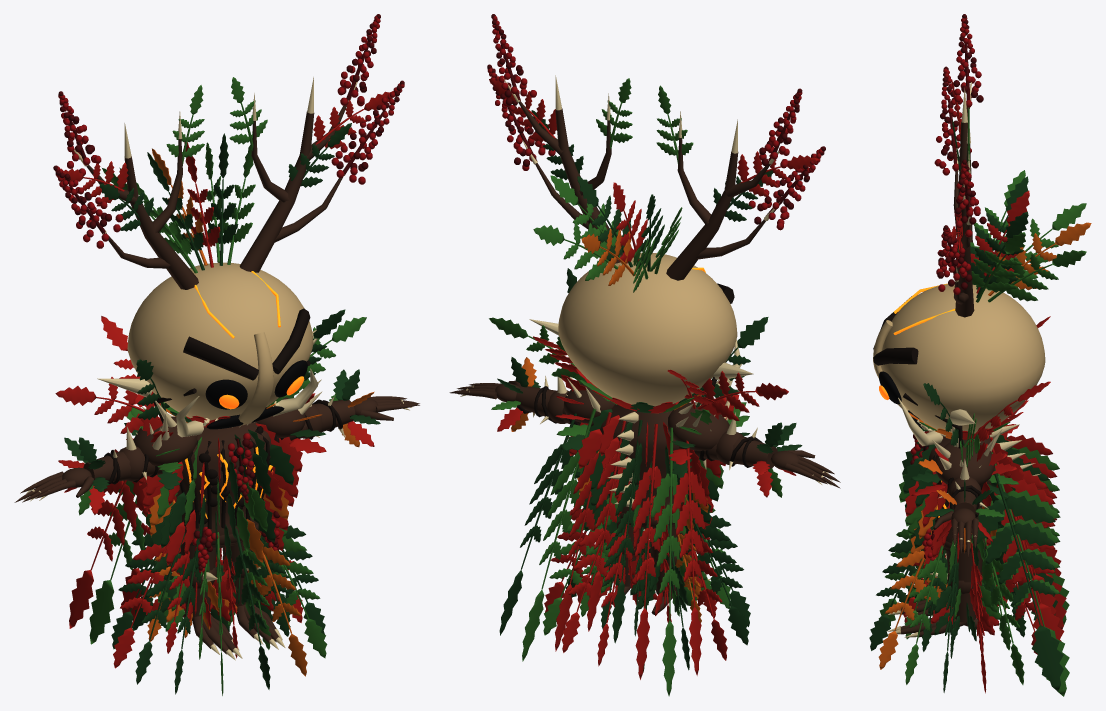
File: boss_rhaxos_v2.fbx
3 views of the same model, side by side, from view 1: azimuth 30°, elevation 25°; view 2: azimuth 150°, elevation 25°; view 3: azimuth 270°, elevation 25° (orthographic). The views are drawn at different scales.
Parts seen in each view (by area): view 1: Bark, Leaves_Deep, Leaves_Red, Mask, Leaves_Green, Fruit, BarkDark, Leaves_Orange, Thorns, FruitDark, EyeHoles, EmberCracks; view 2: Leaves_Red, Mask, Leaves_Deep, Bark, Leaves_Green, Fruit, Thorns, FruitDark, Leaves_Orange, BarkDark; view 3: Mask, Leaves_Deep, Leaves_Green, Leaves_Red, Bark, Leaves_Orange, Fruit, Thorns, FruitDark, BarkDark, EyeHoles, EmberCracks.
Part boxes in pixels (x1,y1,x2,y2): Bark: (14,103,419,654); Leaves_Deep: (64,123,380,694); Leaves_Red: (55,91,393,668); Mask: (127,262,313,425); Leaves_Green: (78,77,366,695); Fruit: (55,15,404,573); BarkDark: (104,308,342,528); Leaves_Orange: (147,148,374,676); Thorns: (24,74,412,660); FruitDark: (53,14,404,570); EyeHoles: (205,360,307,429); EmberCracks: (185,271,280,518); Leaves_Red: (489,79,817,679); Mask: (558,252,737,406); Leaves_Deep: (497,110,802,672); Bark: (449,101,840,614); Leaves_Green: (489,78,782,696); Fruit: (487,16,823,230); Thorns: (458,75,832,580); FruitDark: (487,14,825,224); Leaves_Orange: (511,228,708,622); BarkDark: (517,283,762,498); Mask: (873,284,1045,433); Leaves_Deep: (869,120,1063,692); Leaves_Green: (878,107,1086,696); Leaves_Red: (903,80,1066,693); Bark: (900,107,994,637); Leaves_Orange: (878,222,1091,669); Fruit: (910,17,981,560); Thorns: (887,82,1040,637); FruitDark: (910,14,986,558); BarkDark: (873,296,983,522); EyeHoles: (879,371,921,428); EmberCracks: (893,283,955,517).
Size of the model in its own units: 191 by 275 by 96.43.
